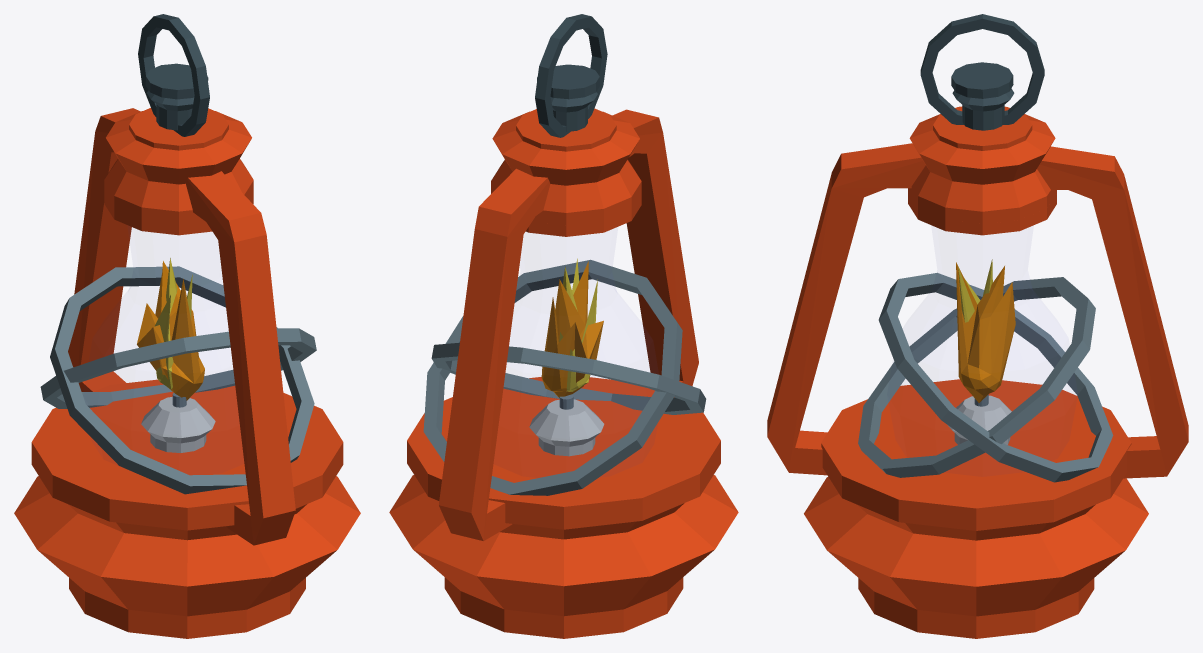
The picture shows the model from 3 angles, left to right: view 1: azimuth 30°, elevation 25°; view 2: azimuth 150°, elevation 25°; view 3: azimuth 270°, elevation 25°; orthographic projection.
Visible parts, largest first — view 1: node_MeshObject-1708422720-PolyPaper16; view 2: node_MeshObject-1708422720-PolyPaper16; view 3: node_MeshObject-1708422720-PolyPaper16.
Boxes of the visible parts, x1,y1,x2,y2 form: node_MeshObject-1708422720-PolyPaper16: (14, 14, 360, 638); node_MeshObject-1708422720-PolyPaper16: (389, 14, 738, 638); node_MeshObject-1708422720-PolyPaper16: (767, 14, 1188, 638).
Bounding box in the file's own units: 0.2782 × 0.5045 × 0.3396.
